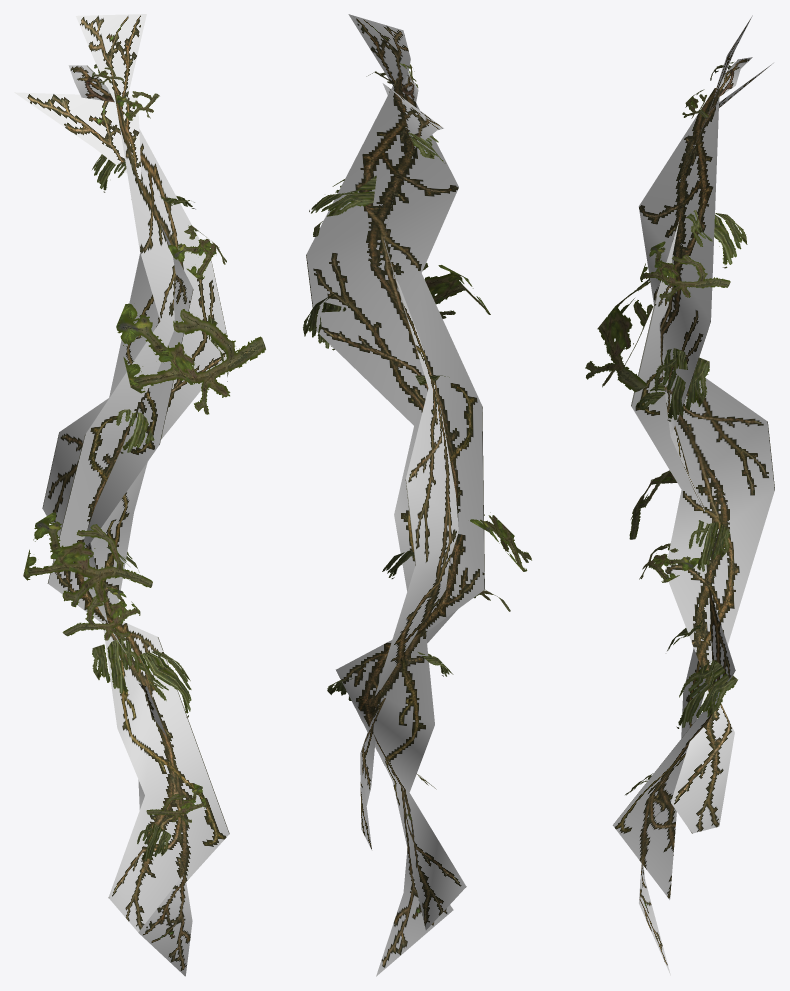
File: Grass7.fbx
The picture shows the model from 3 angles, left to right: view 1: azimuth 30°, elevation 25°; view 2: azimuth 150°, elevation 25°; view 3: azimuth 270°, elevation 25°; orthographic projection. The views are drawn at different scales.
Parts seen in each view (by area): view 1: LV_Gnollando_Foliage_Vine01a_PM_JY; view 2: LV_Gnollando_Foliage_Vine01a_PM_JY; view 3: LV_Gnollando_Foliage_Vine01a_PM_JY.
Part boxes in pixels (<box>): LV_Gnollando_Foliage_Vine01a_PM_JY: <box>14,14,265,976</box>; LV_Gnollando_Foliage_Vine01a_PM_JY: <box>303,14,531,976</box>; LV_Gnollando_Foliage_Vine01a_PM_JY: <box>585,15,774,975</box>.
Size of the model in its own units: 0.6006 by 2.43 by 0.4814.
